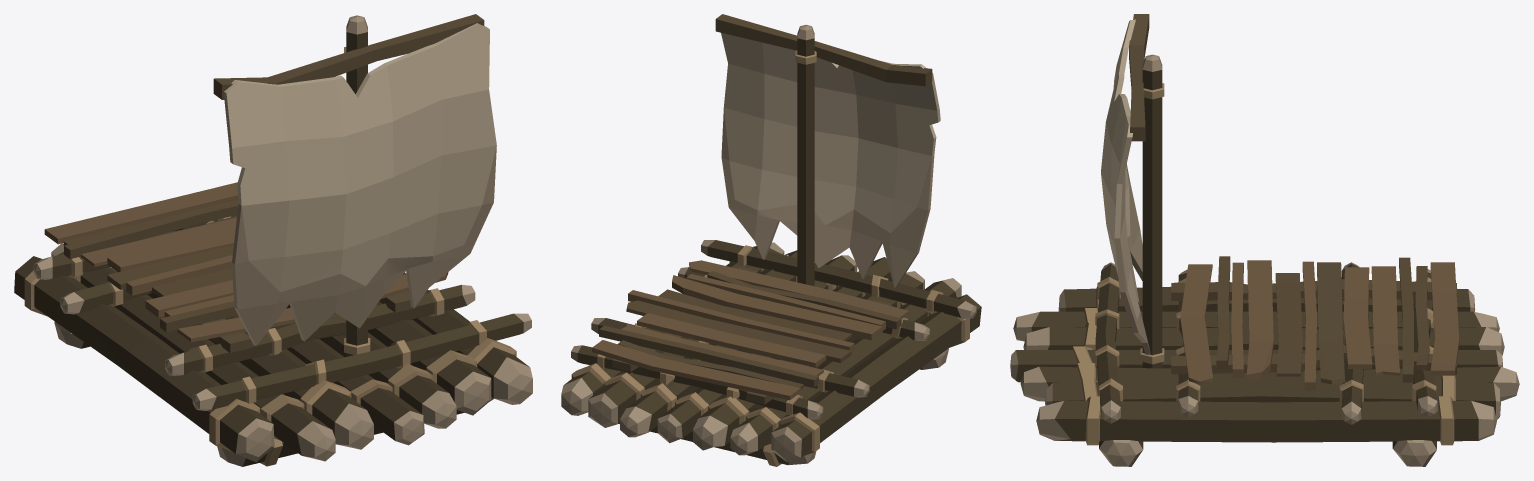
Rendered from SM_Prop_Raft_01.glb.
The picture shows the model from 3 angles, left to right: view 1: azimuth 30°, elevation 25°; view 2: azimuth 150°, elevation 25°; view 3: azimuth 270°, elevation 25°; orthographic projection. The views are drawn at different scales.
Parts seen in each view (by area): view 1: SM_Prop_Raft_01; view 2: SM_Prop_Raft_01; view 3: SM_Prop_Raft_01.
Part boxes in pixels (x1,y1,x2,y2): SM_Prop_Raft_01: (14, 14, 532, 466); SM_Prop_Raft_01: (561, 14, 981, 466); SM_Prop_Raft_01: (1010, 14, 1519, 466).
Size of the model in its own units: 0.0365 by 0.0416 by 0.0522.
